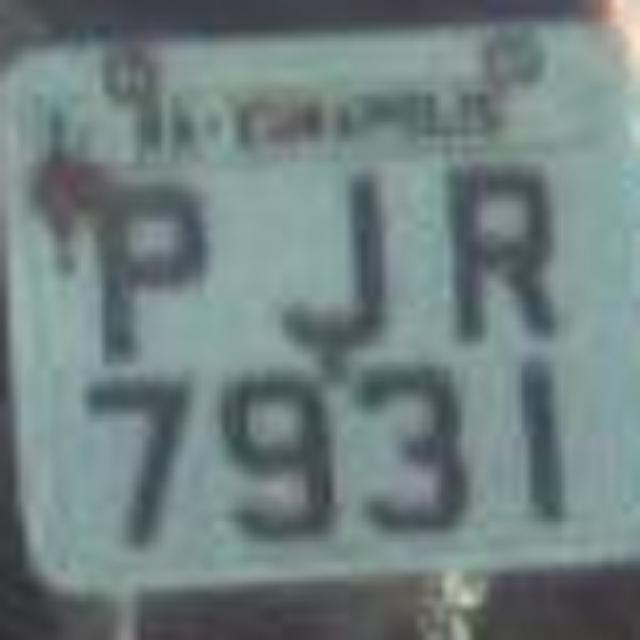1: (476, 340, 589, 535)
3: (320, 344, 495, 551)
7: (72, 360, 200, 560)
9: (184, 336, 356, 569)
J: (260, 160, 412, 368)
P: (76, 165, 212, 380)
R: (428, 164, 580, 356)
